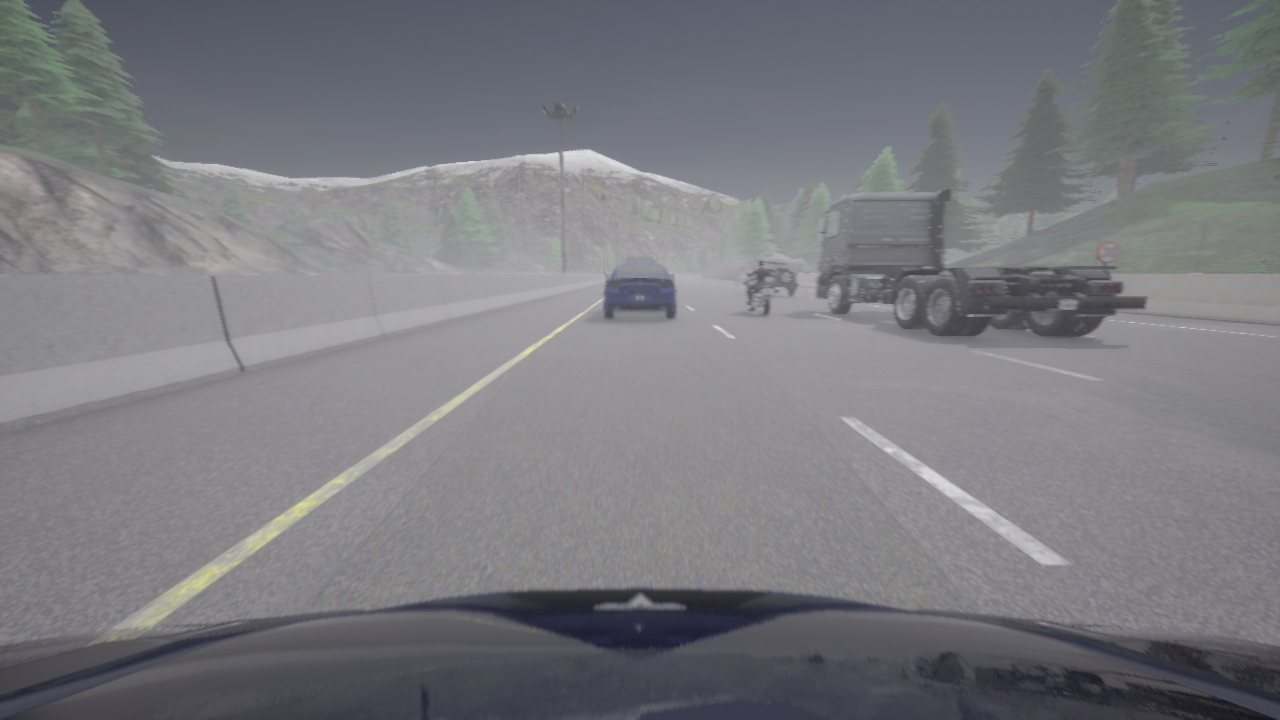cyclist: (0, 588, 1279, 719), (815, 187, 1145, 336), (604, 262, 675, 318), (743, 261, 798, 296), (745, 271, 773, 315), (735, 271, 750, 285), (622, 258, 657, 263)
